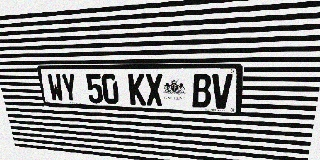0: (101, 74, 119, 104)
5: (86, 74, 104, 104)
B: (192, 74, 212, 108)
K: (128, 74, 146, 105)
V: (212, 74, 233, 109)
W: (47, 73, 65, 102)
X: (145, 74, 163, 106)
Y: (60, 73, 78, 102)
